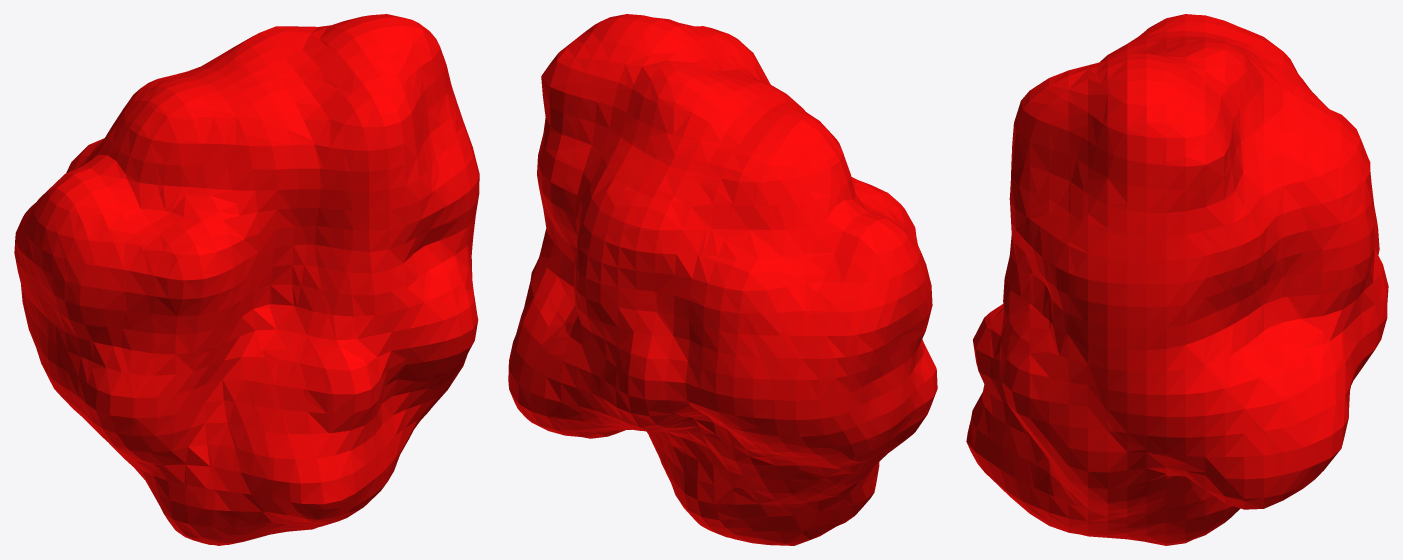
The model's file is trpA_coarse.dae.
3 renders of one model, left to right at view 1: azimuth 30°, elevation 25°; view 2: azimuth 150°, elevation 25°; view 3: azimuth 270°, elevation 25°, orthographic. The views are drawn at different scales.
Visible parts, largest first — view 1: trpA; view 2: trpA; view 3: trpA.
Boxes of the visible parts, x1,y1,x2,y2 form: trpA: (14,14,479,545); trpA: (508,14,937,545); trpA: (966,14,1388,545).
Bounding box in the file's own units: 47.72 × 55.91 × 39.65.
